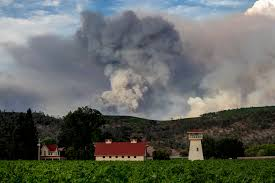smoke: (1, 23, 275, 106)
